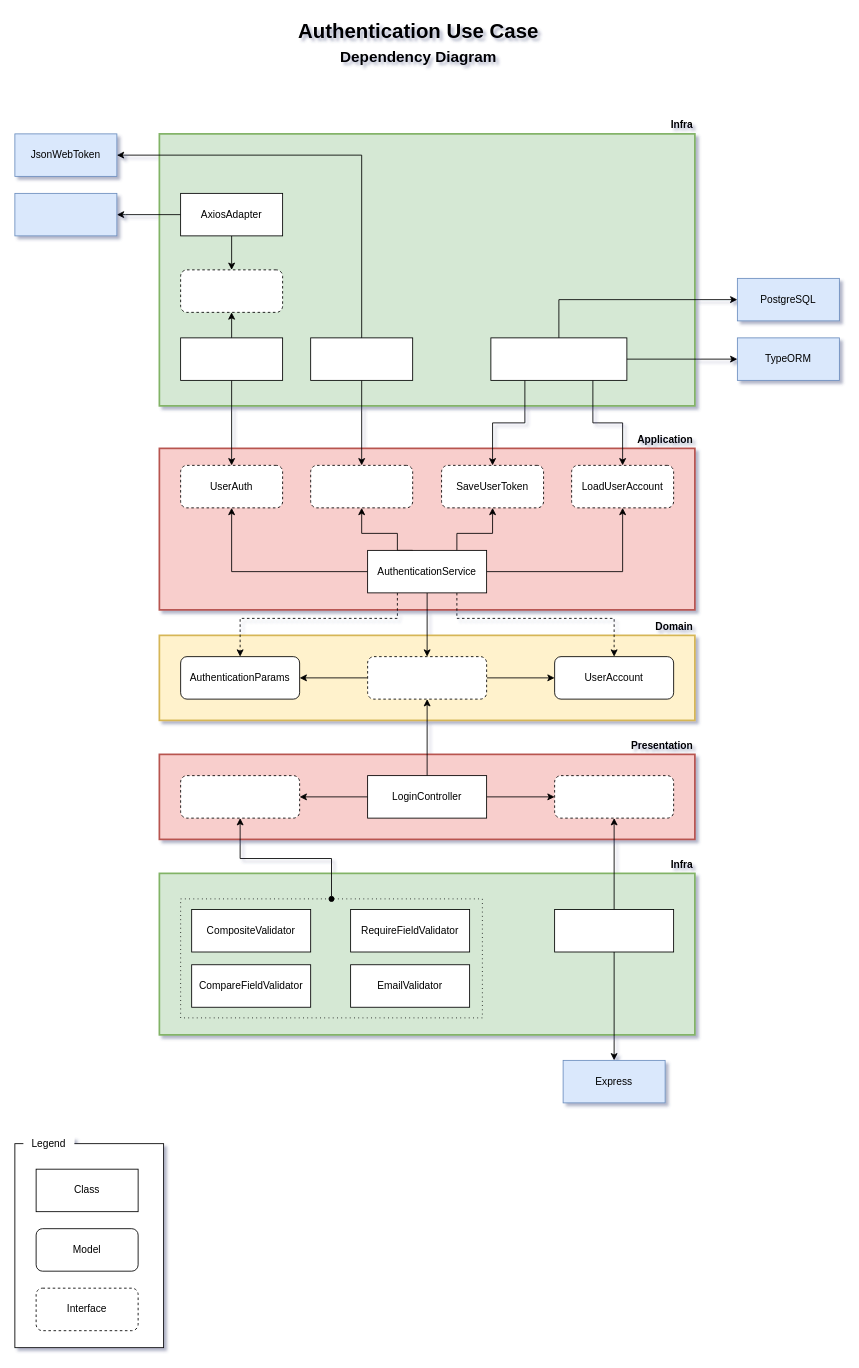
This 859x1368 diagram has some shape labels left out. Here are the shapes that lost their labels. From the top down, the centre of each, then its label:
the point at 65,214: Axios
the point at 231,290: HttpClient
the point at 231,358: GoogleAuth
the point at 361,358: JwtAdapter
the point at 558,358: UserAccountRepository
the point at 361,486: TokenGenerator
the point at 427,677: Authentication
the point at 240,796: Validator
the point at 614,796: Controller
the point at 614,930: ExpressRouteAdapter
